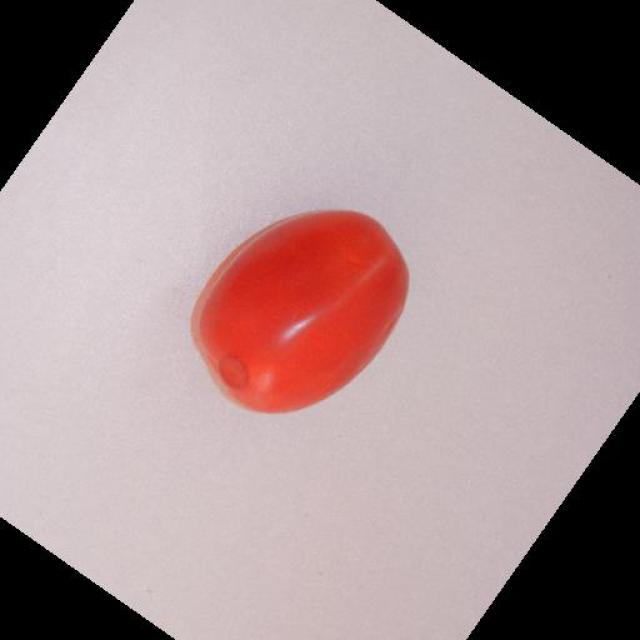Stale_tomato: (185, 189, 433, 432)
